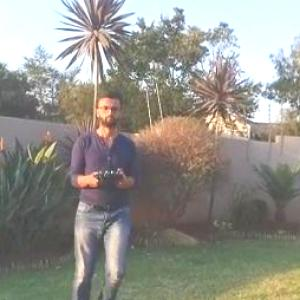follow: (66, 92, 145, 299)
